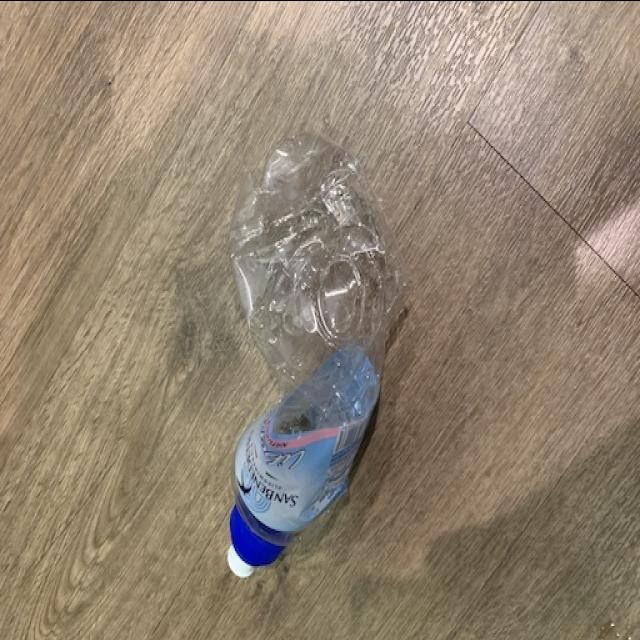litter: (199, 113, 415, 595)
